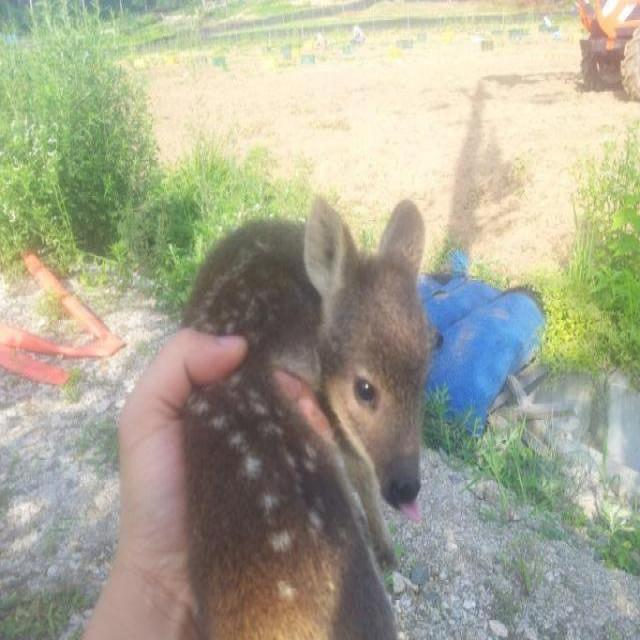deer: (157, 178, 466, 640)
